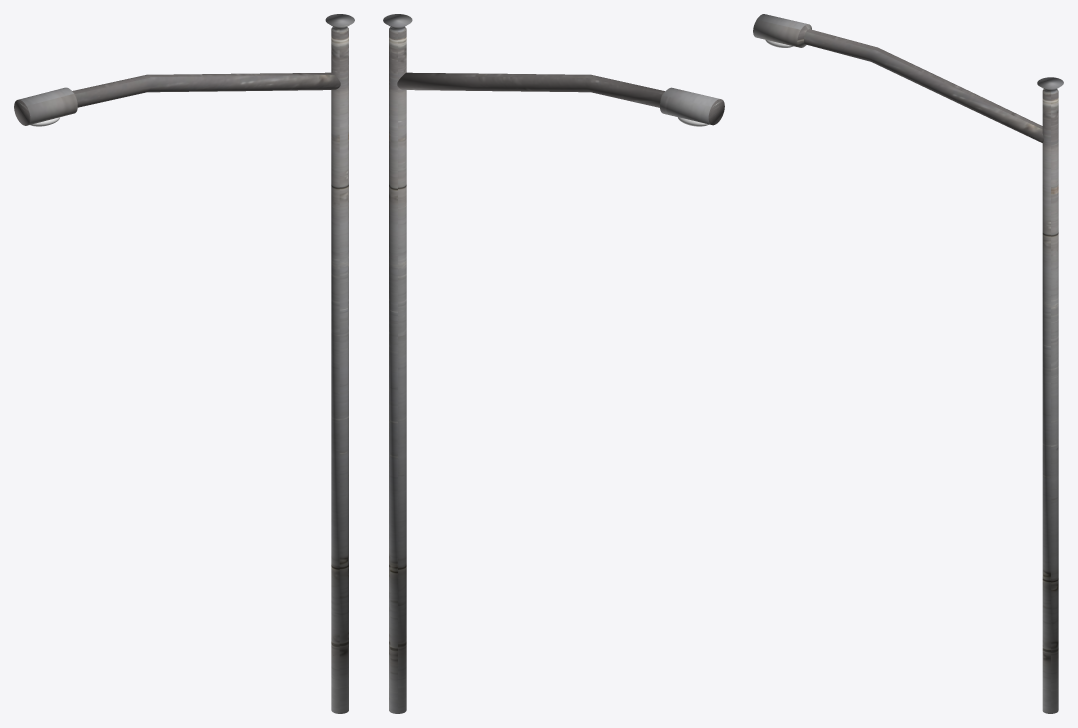
File: light pole.glb
3 views of the same model, side by side, from view 1: azimuth 30°, elevation 25°; view 2: azimuth 150°, elevation 25°; view 3: azimuth 330°, elevation 25° (orthographic). The views are drawn at different scales.
Parts seen in each view (by area): view 1: Light Pole.001; view 2: Light Pole.001; view 3: Light Pole.001.
Part boxes in pixels (x1,y1,x2,y2): Light Pole.001: [14, 14, 354, 713]; Light Pole.001: [383, 14, 724, 713]; Light Pole.001: [753, 14, 1063, 713].
Bounding box in the file's own units: 4.37 × 8.69 × 0.3848.
Materials: 2 (1 with a texture image).
